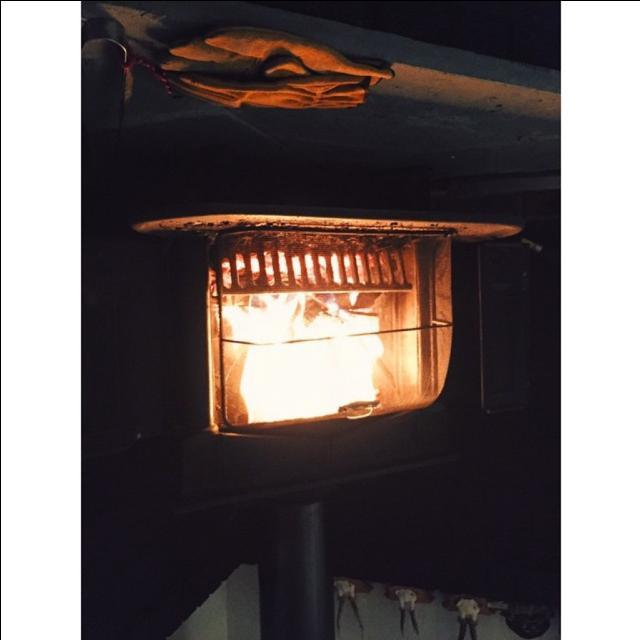Fire: (210, 254, 392, 416)
